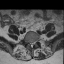CCS_normal: (30, 40, 32, 49)
LFS_normal: (34, 38, 36, 45)
LLS_normal: (32, 39, 34, 47)
RFS_severe_stenosis: (27, 38, 28, 45)
RLS_normal: (28, 40, 31, 47)
